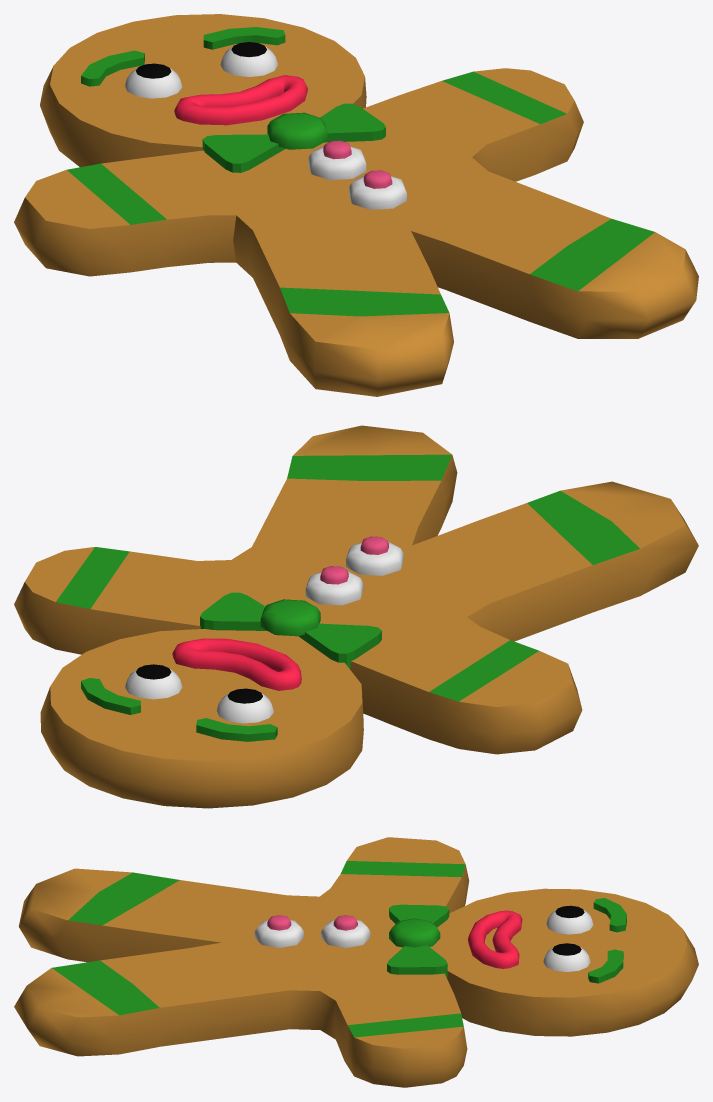
The model's file is CookieMan.fbx.
3 views of the same model, one above another, from view 1: azimuth 30°, elevation 25°; view 2: azimuth 150°, elevation 25°; view 3: azimuth 270°, elevation 25° (orthographic). The views are drawn at different scales.
Parts seen in each view (by area): view 1: cookieman; view 2: cookieman; view 3: cookieman.
Part boxes in pixels (box(x1,y1,x2,y2)): cookieman: box(14, 14, 698, 396); cookieman: box(14, 425, 698, 808); cookieman: box(14, 837, 698, 1087).
Bounding box in the file's own units: 1.84 × 0.2505 × 2.43.
